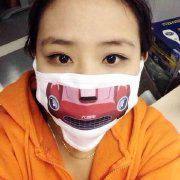OK: (37, 32, 139, 134)
